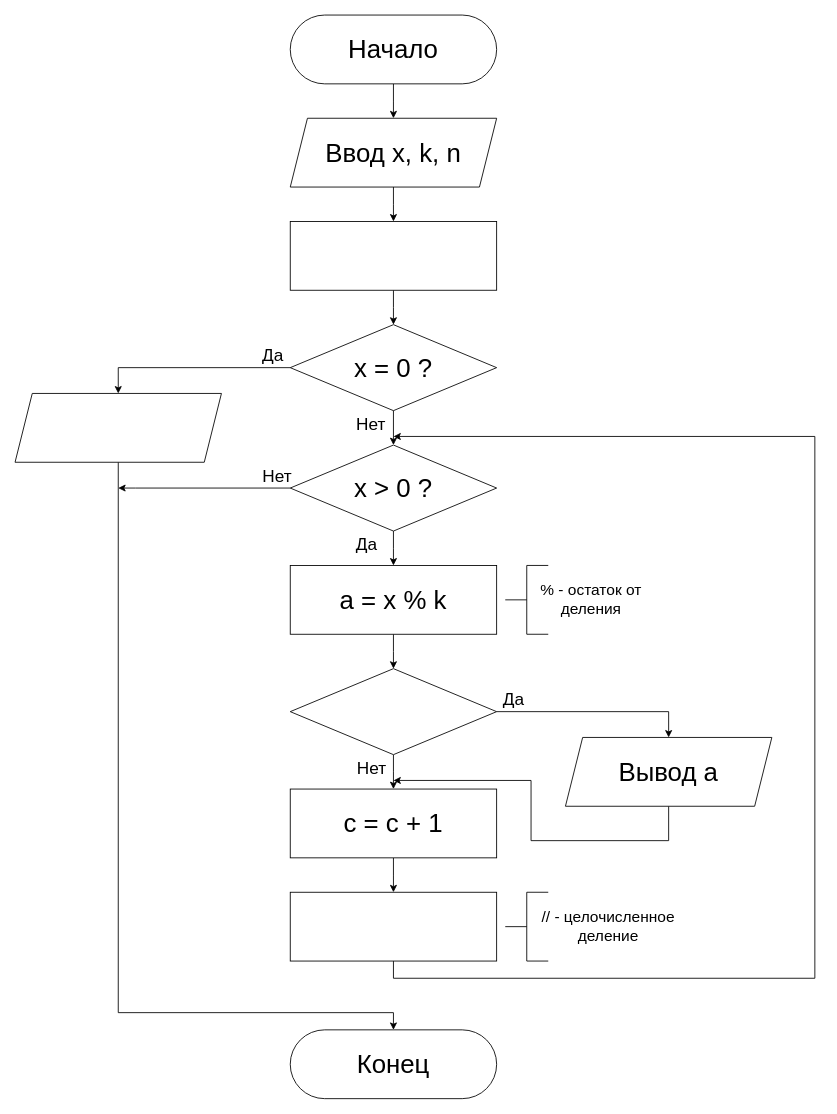
This 837x1114 diagram has some shape labels left out. Here are the shapes that lost their labels. From the top down, the centre of each, then its label:
At [393,255]: "c = 0".
At [117,427]: "Вывод 0".
At [393,711]: "c = n ?".
At [393,926]: "x = x // k".
